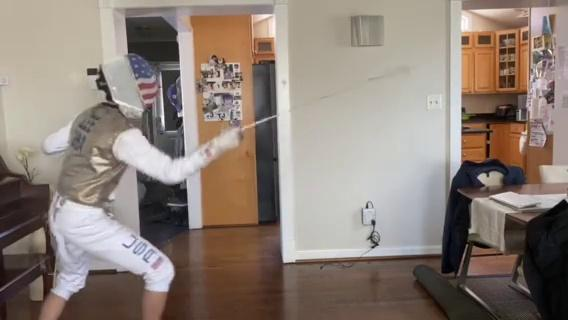blade-guard: (234, 122, 254, 141)
blade-tip: (366, 67, 412, 83)
fencing-blade: (226, 65, 414, 143)
